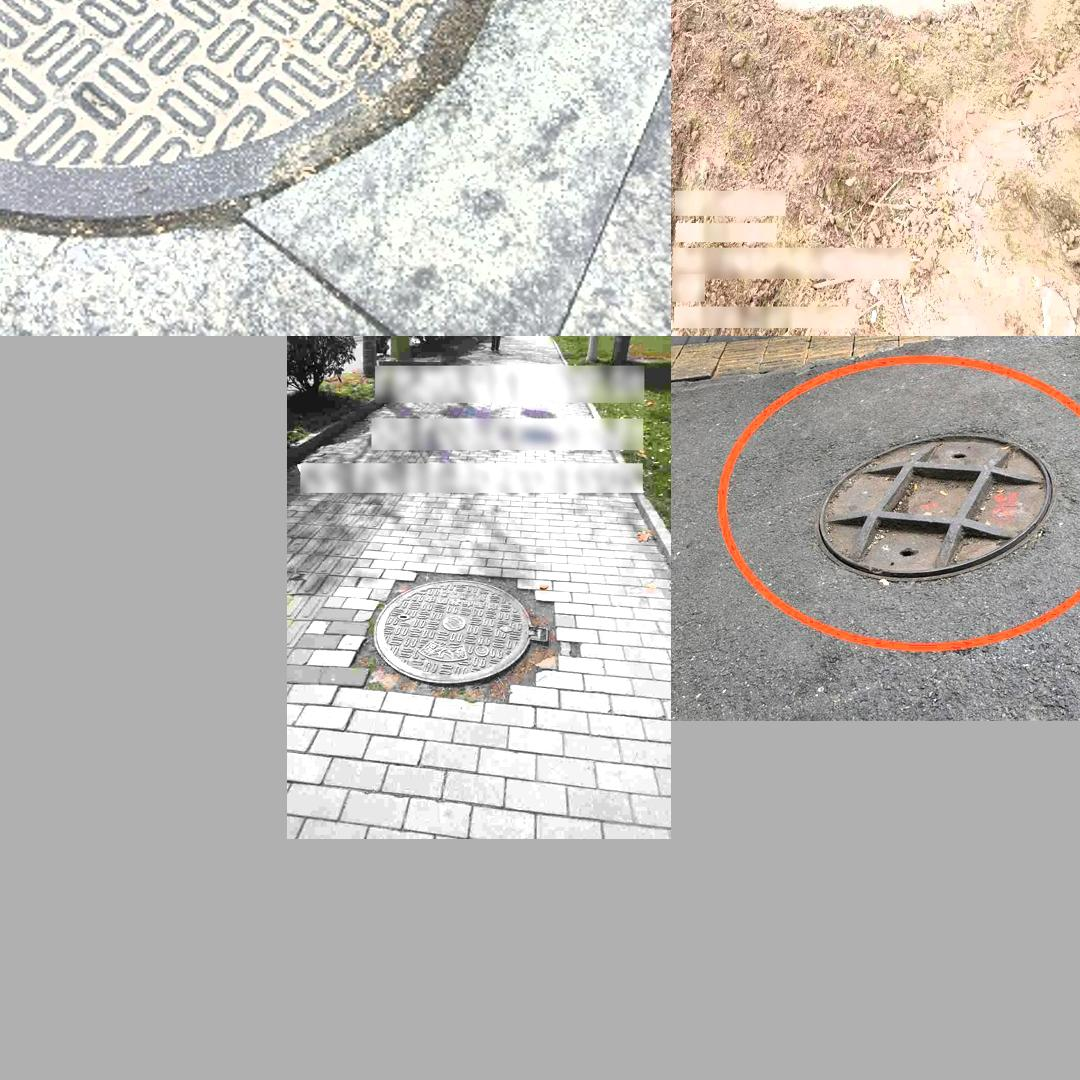good: (0, 0, 485, 226), (807, 425, 1064, 587), (373, 578, 549, 685)
